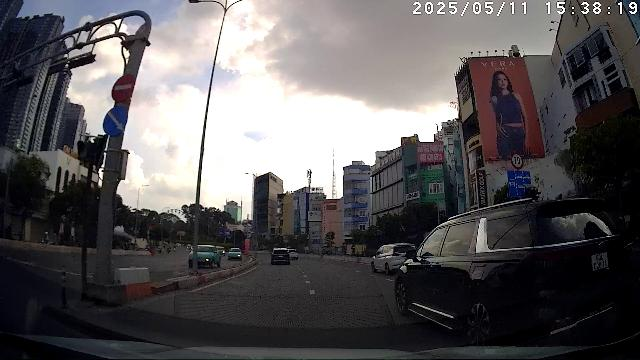102-cam-di-nguoc-chieu: (111, 74, 135, 101)
127-toc-do-toi-da-70: (510, 152, 524, 170)
302a-huong-phai-di-vong-chuong-ngai-vat-1: (103, 106, 129, 136)
